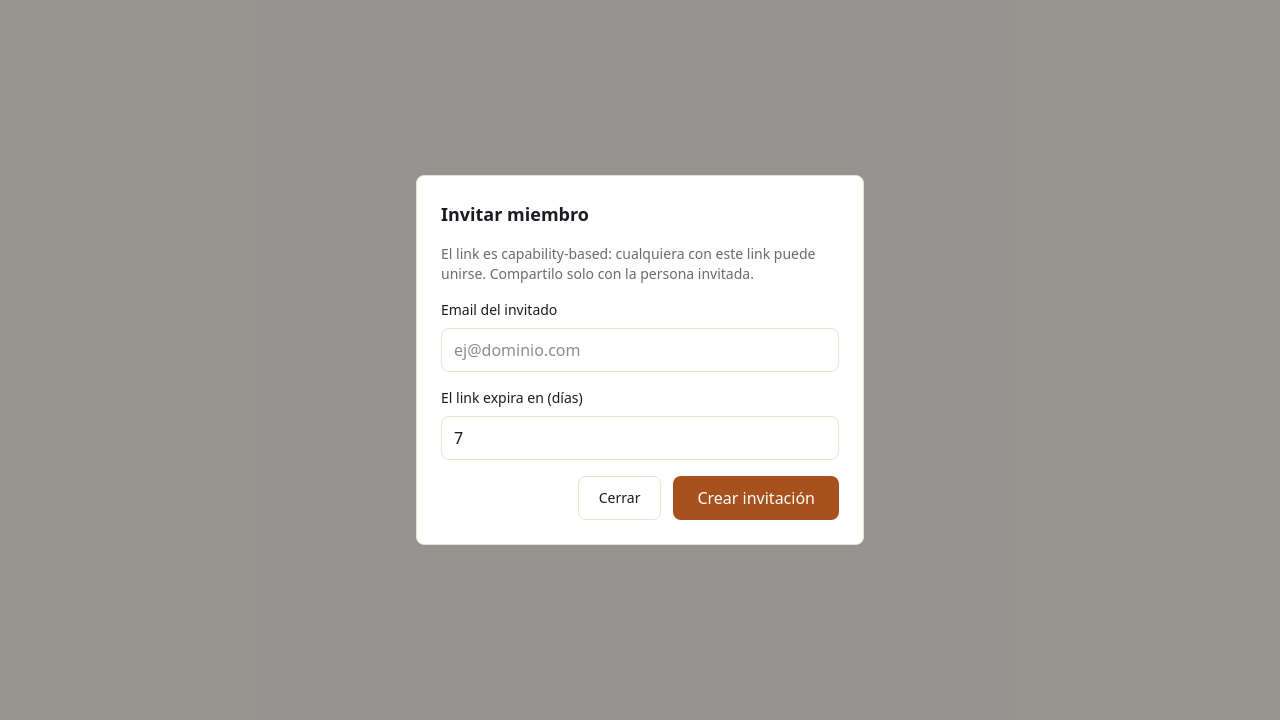
it: <InviteMemberModal /> › Email inválido ⇒ mensaje inline + action NO invocada
Type "not-email" into the field labelled "Email del invitado" at [640, 350], box [441, 328, 839, 372]
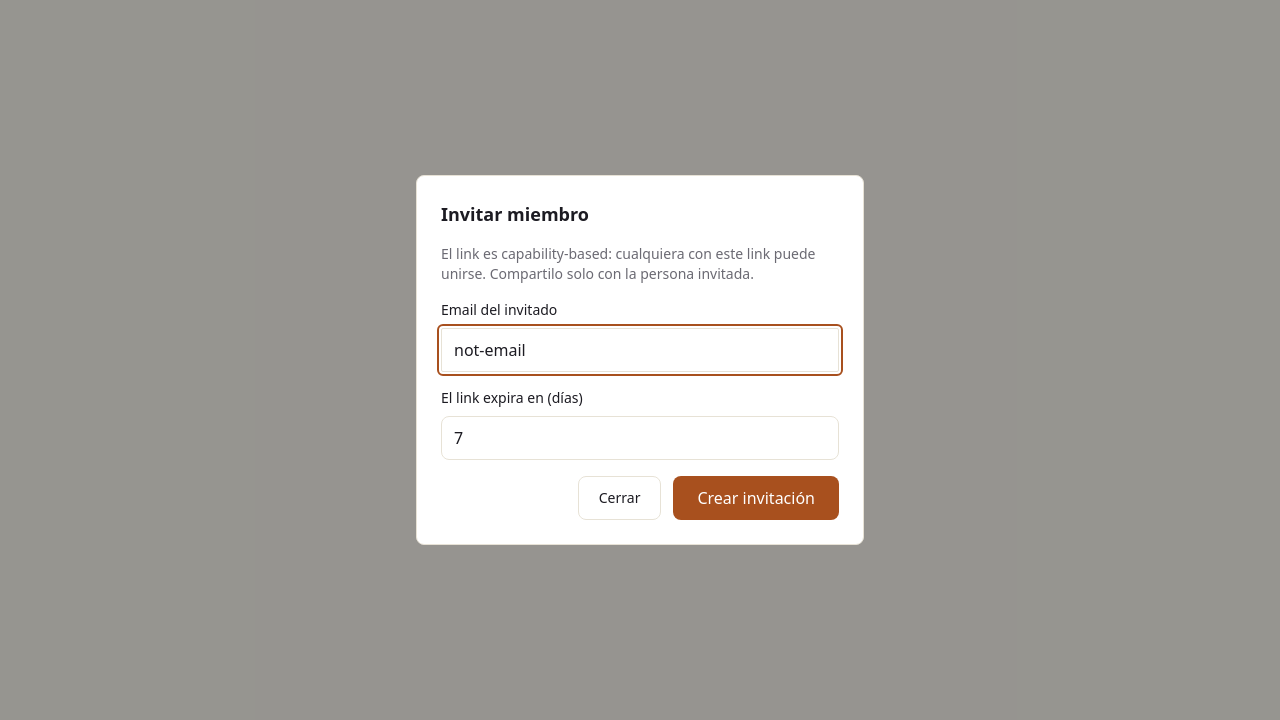
Click the button "Crear invitación" at [756, 498], box [673, 476, 839, 520]
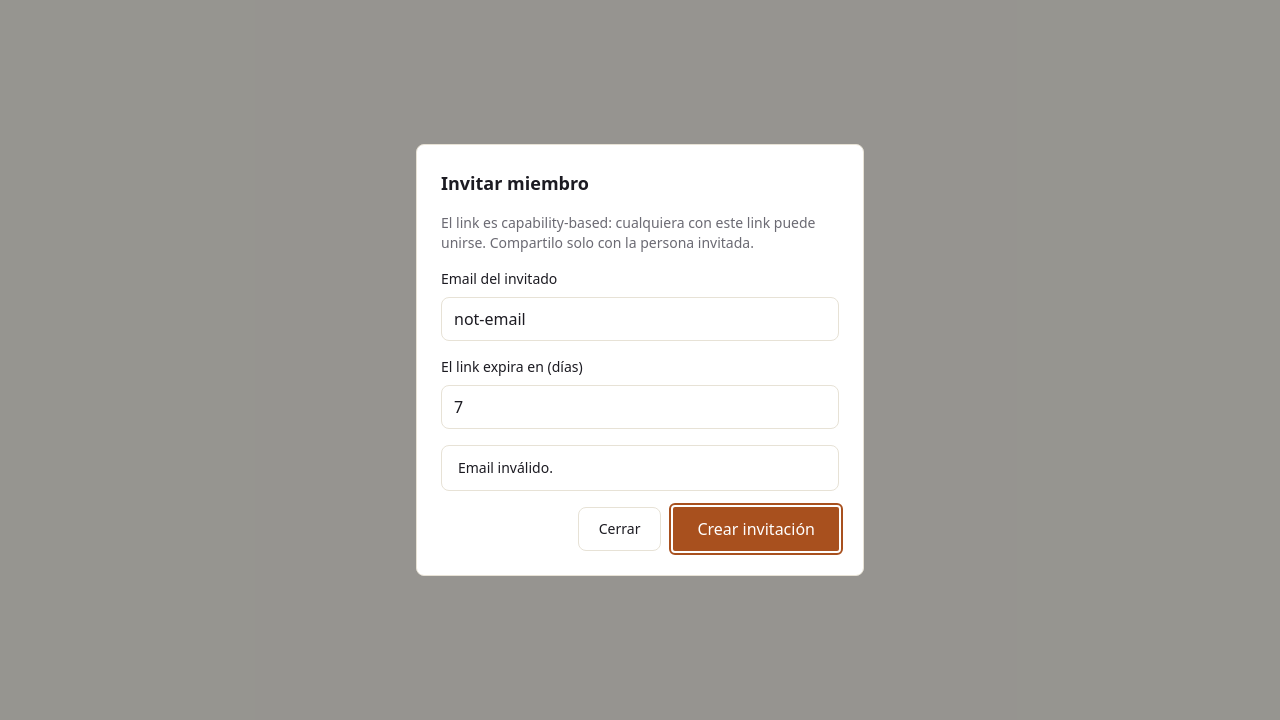
Check: the text "Email inválido." is shown, box [441, 445, 839, 491]
